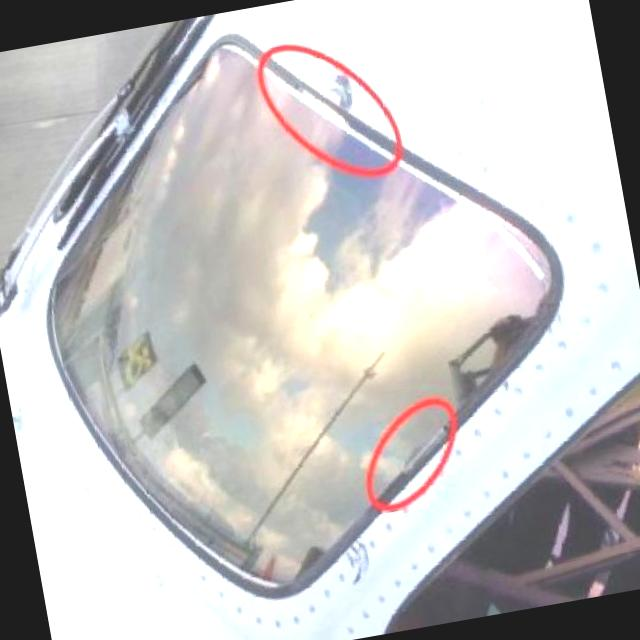crack: (346, 542, 374, 584)
